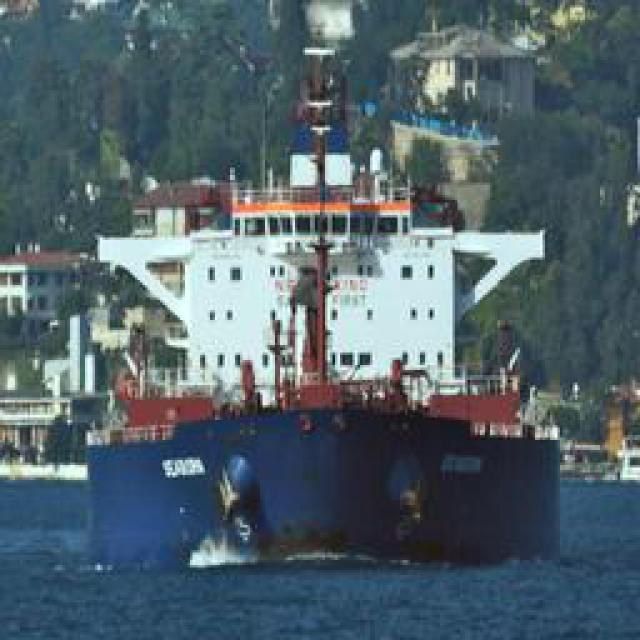Ship: (66, 121, 592, 580)
